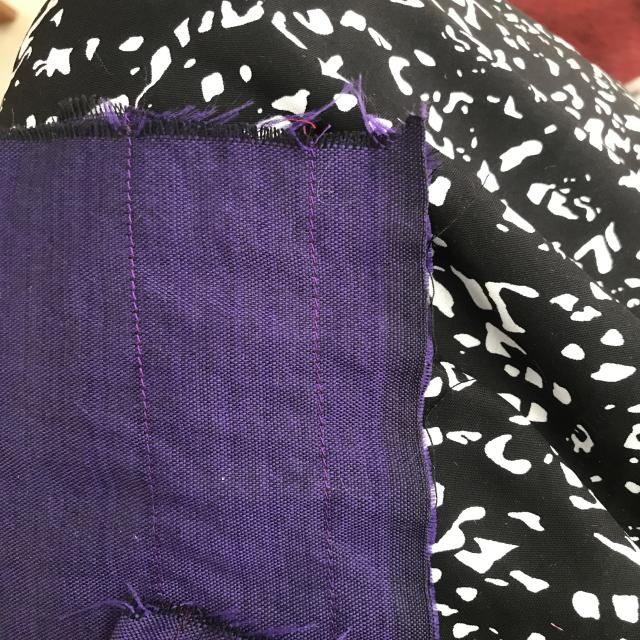good: (117, 156, 153, 373)
